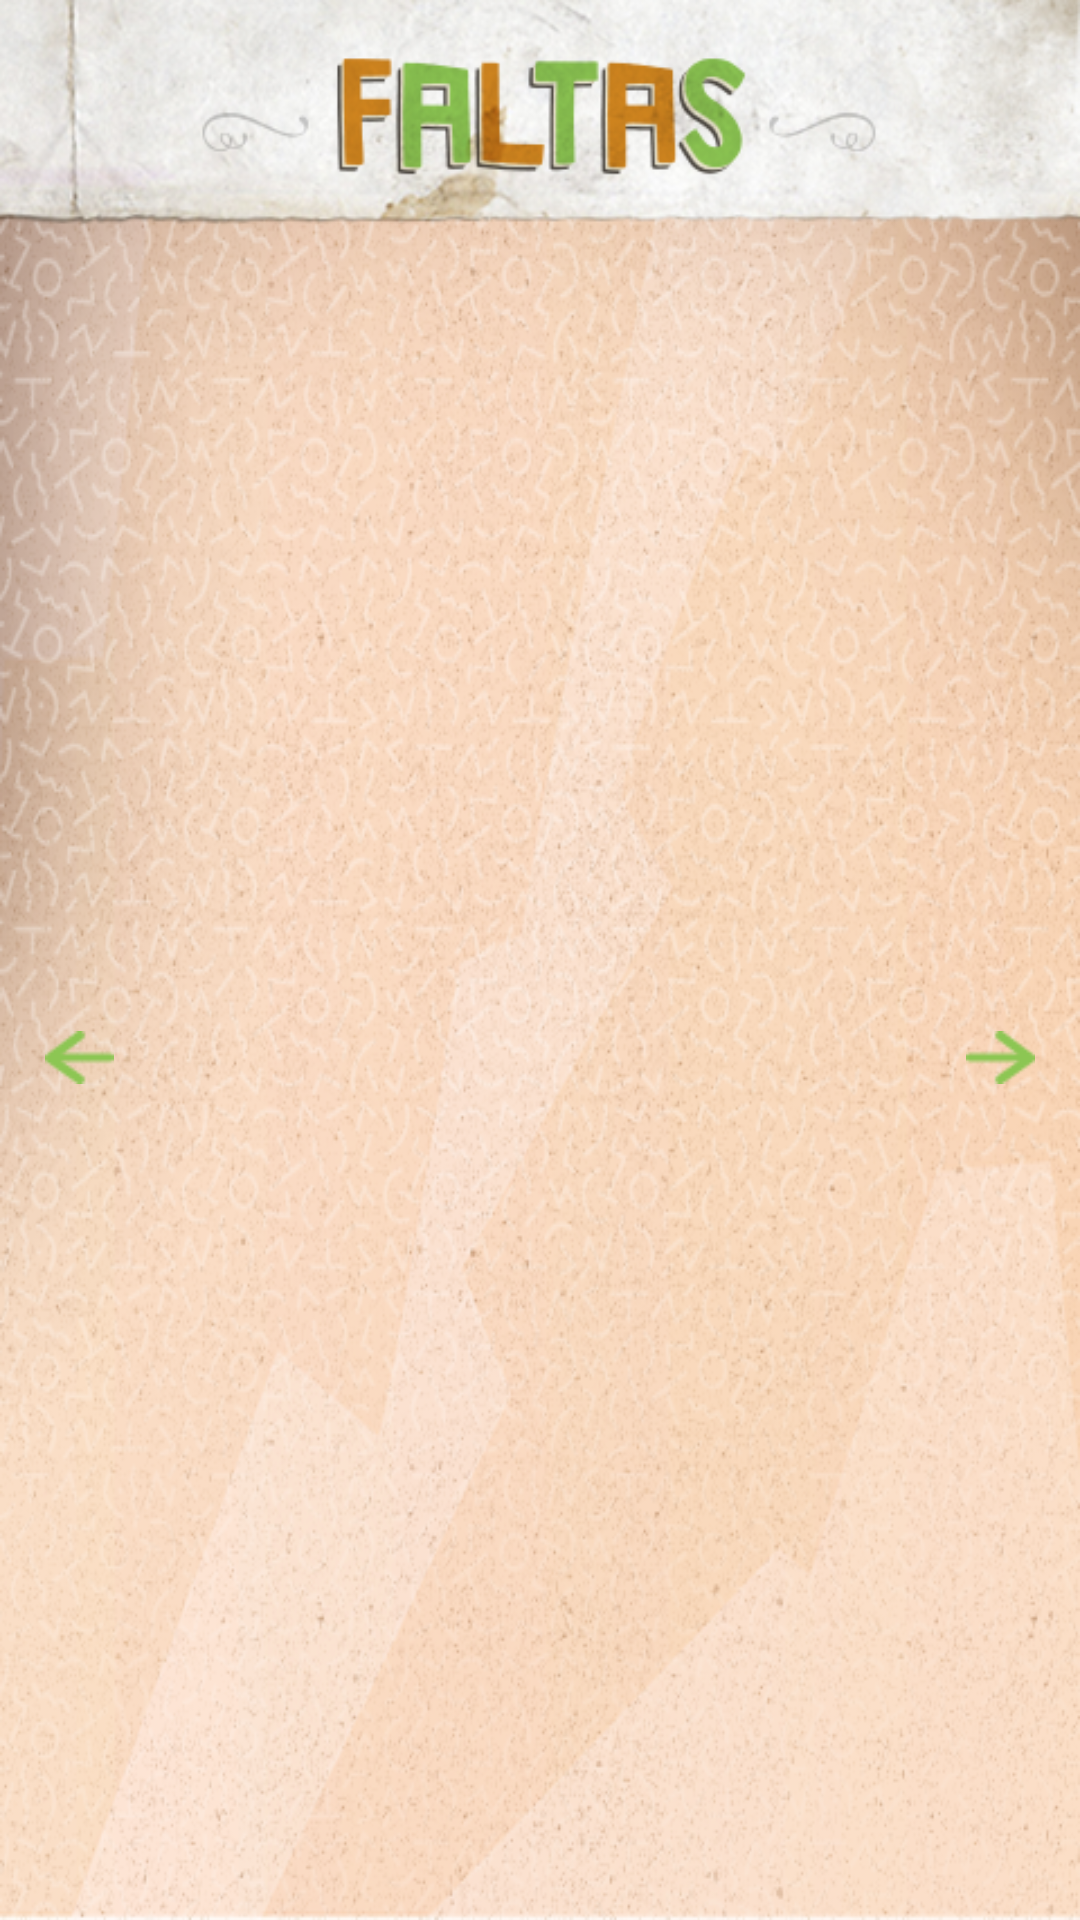

Point at icon controls on the screen. Image size 1080px×1920px, points as point (x, y).
flecha: point (79, 1057), point (1000, 1057)
